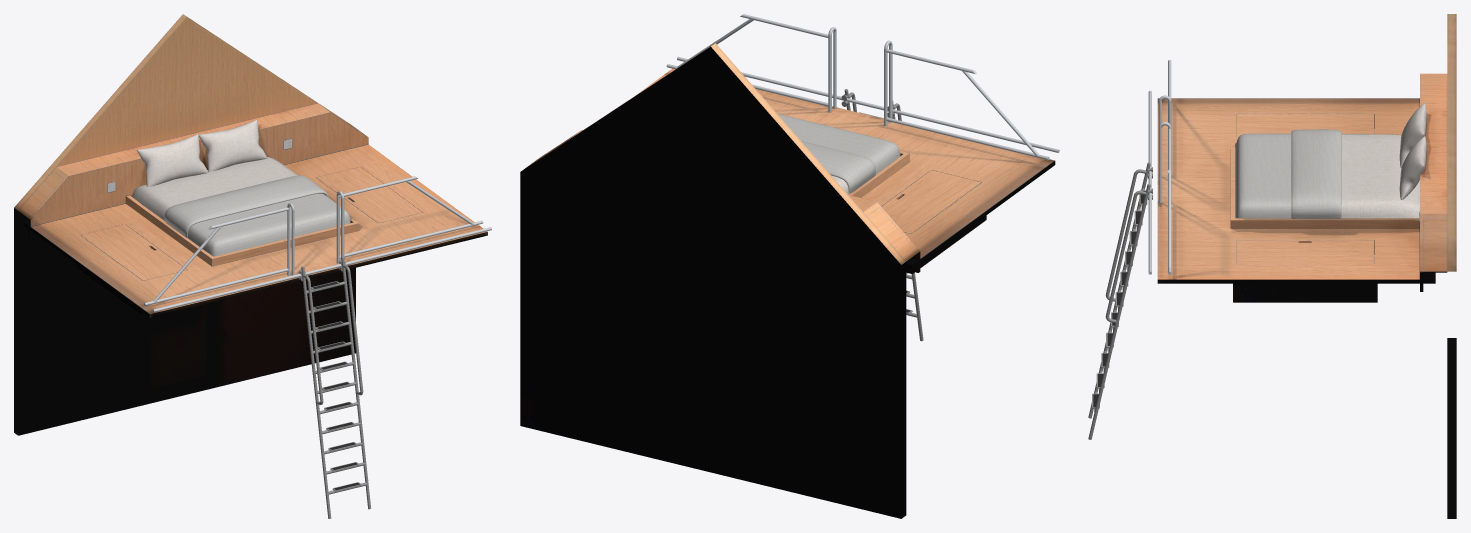
The model's file is Mezzanine King no light.glb.
The picture shows the model from 3 angles, left to right: view 1: azimuth 30°, elevation 25°; view 2: azimuth 150°, elevation 25°; view 3: azimuth 270°, elevation 25°; orthographic projection. The views are drawn at different scales.
Visible parts, largest first — view 1: Interior_Wood_Black_Base_Bed2.002, Interior_Wood_Bed_2.001, White_fabric_Bed _Bed_2.001, Alumininum_1_Bed_2.001, Alumininum_1_Bed.001; view 2: Interior_Wood_Black_Base_Bed2.002, Interior_Wood_Bed_2.001, Alumininum_1_Bed_2.001, White_fabric_Bed _Bed_2.001, Alumininum_1_Bed.001; view 3: Interior_Wood_Bed_2.001, White_fabric_Bed _Bed_2.001, Alumininum_1_Bed_2.001, Interior_Wood_Black_Base_Bed2.002, Alumininum_1_Bed.001.
Boxes of the visible parts, x1,y1,x2,y2 form: Interior_Wood_Black_Base_Bed2.002: (14,14,355,435); Interior_Wood_Bed_2.001: (18,103,487,317); White_fabric_Bed _Bed_2.001: (132,119,350,256); Alumininum_1_Bed_2.001: (144,176,483,518); Alumininum_1_Bed.001: (152,227,491,312); Interior_Wood_Black_Base_Bed2.002: (520,43,906,518); Interior_Wood_Bed_2.001: (526,68,1055,273); Alumininum_1_Bed_2.001: (666,14,1049,341); White_fabric_Bed _Bed_2.001: (777,113,900,194); Alumininum_1_Bed.001: (677,56,1059,152); Interior_Wood_Bed_2.001: (1157,73,1447,302); White_fabric_Bed _Bed_2.001: (1235,103,1426,218); Alumininum_1_Bed_2.001: (1088,60,1374,439); Interior_Wood_Black_Base_Bed2.002: (1447,14,1456,518); Alumininum_1_Bed.001: (1148,90,1151,274).
Size of the model in its own units: 1.88 by 2.01 by 1.62.
9 materials, 5 textured.
